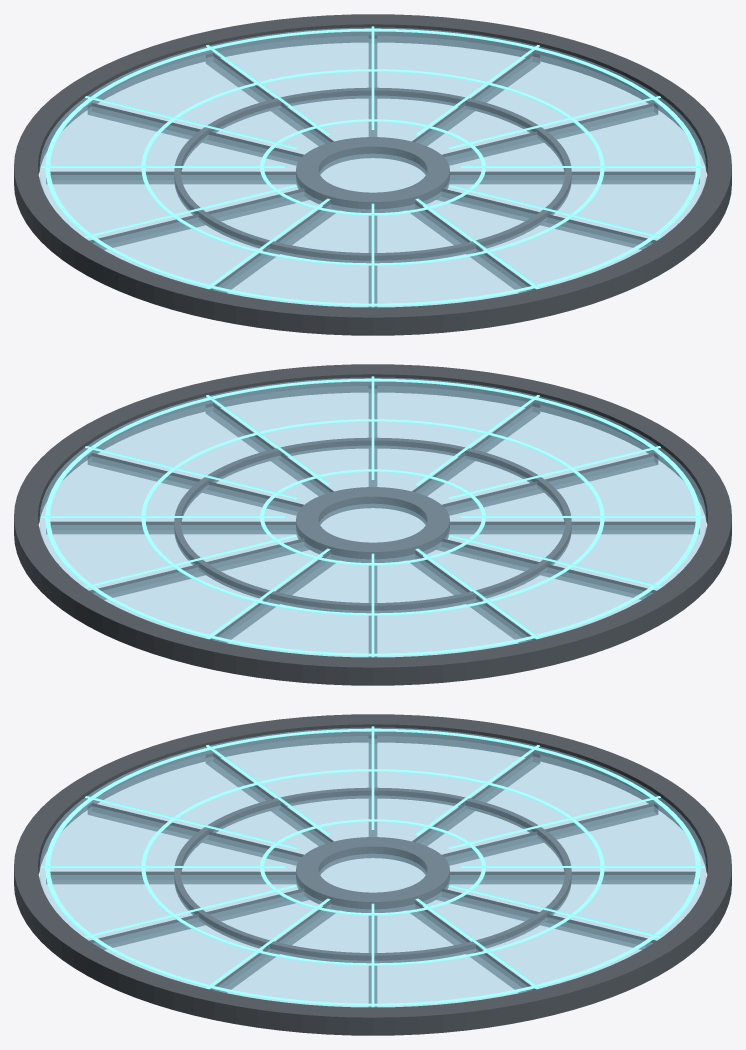
The model's file is glass_floor.glb.
The picture shows the model from 3 angles, top to bottom: view 1: azimuth 30°, elevation 25°; view 2: azimuth 150°, elevation 25°; view 3: azimuth 270°, elevation 25°; orthographic projection.
Visible parts, largest first — view 1: TransparentGlassDeck, TitaniumSupportFrame, CyanGuideLights; view 2: TransparentGlassDeck, TitaniumSupportFrame, CyanGuideLights; view 3: TransparentGlassDeck, TitaniumSupportFrame, CyanGuideLights.
Boxes of the visible parts, x1,y1,x2,y2 form: TransparentGlassDeck: (39, 27, 706, 307); TitaniumSupportFrame: (14, 14, 731, 335); CyanGuideLights: (41, 26, 704, 307); TransparentGlassDeck: (39, 377, 706, 657); TitaniumSupportFrame: (14, 364, 731, 685); CyanGuideLights: (41, 376, 704, 657); TransparentGlassDeck: (39, 727, 706, 1007); TitaniumSupportFrame: (14, 714, 731, 1035); CyanGuideLights: (41, 726, 704, 1007).
Size of the model in its own units: 4.48 by 0.125 by 4.48.
